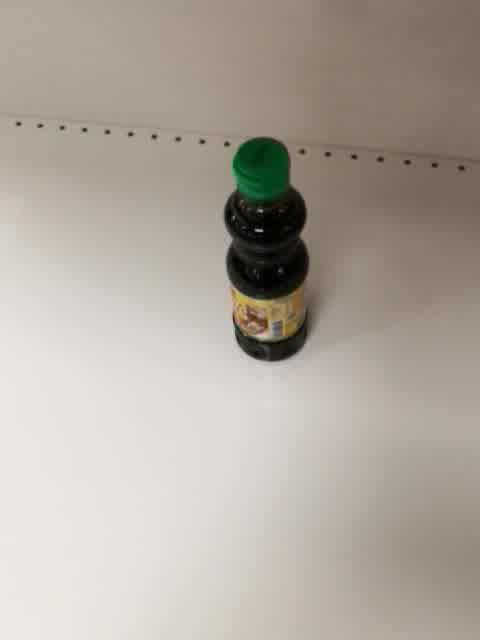cookingoil: (220, 137, 314, 364)
